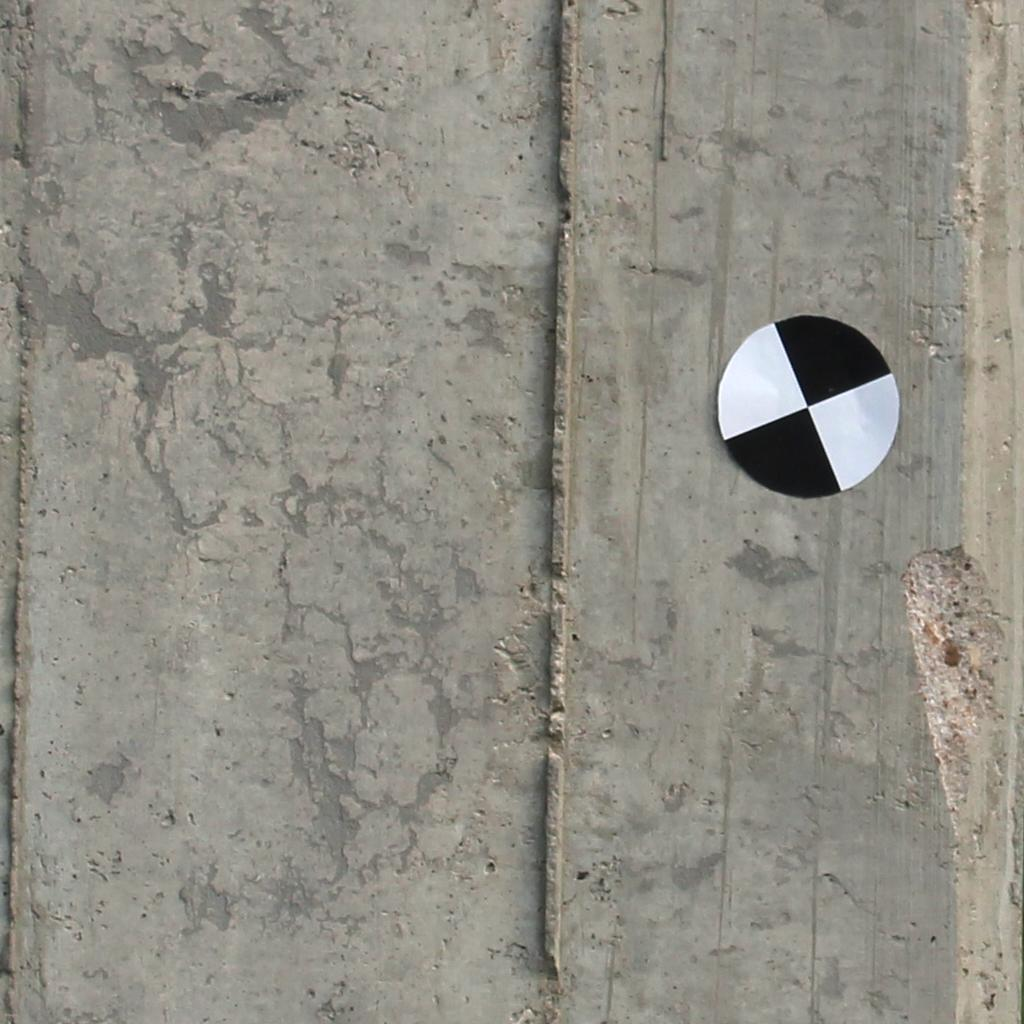spalling: (902, 548, 1004, 831)
